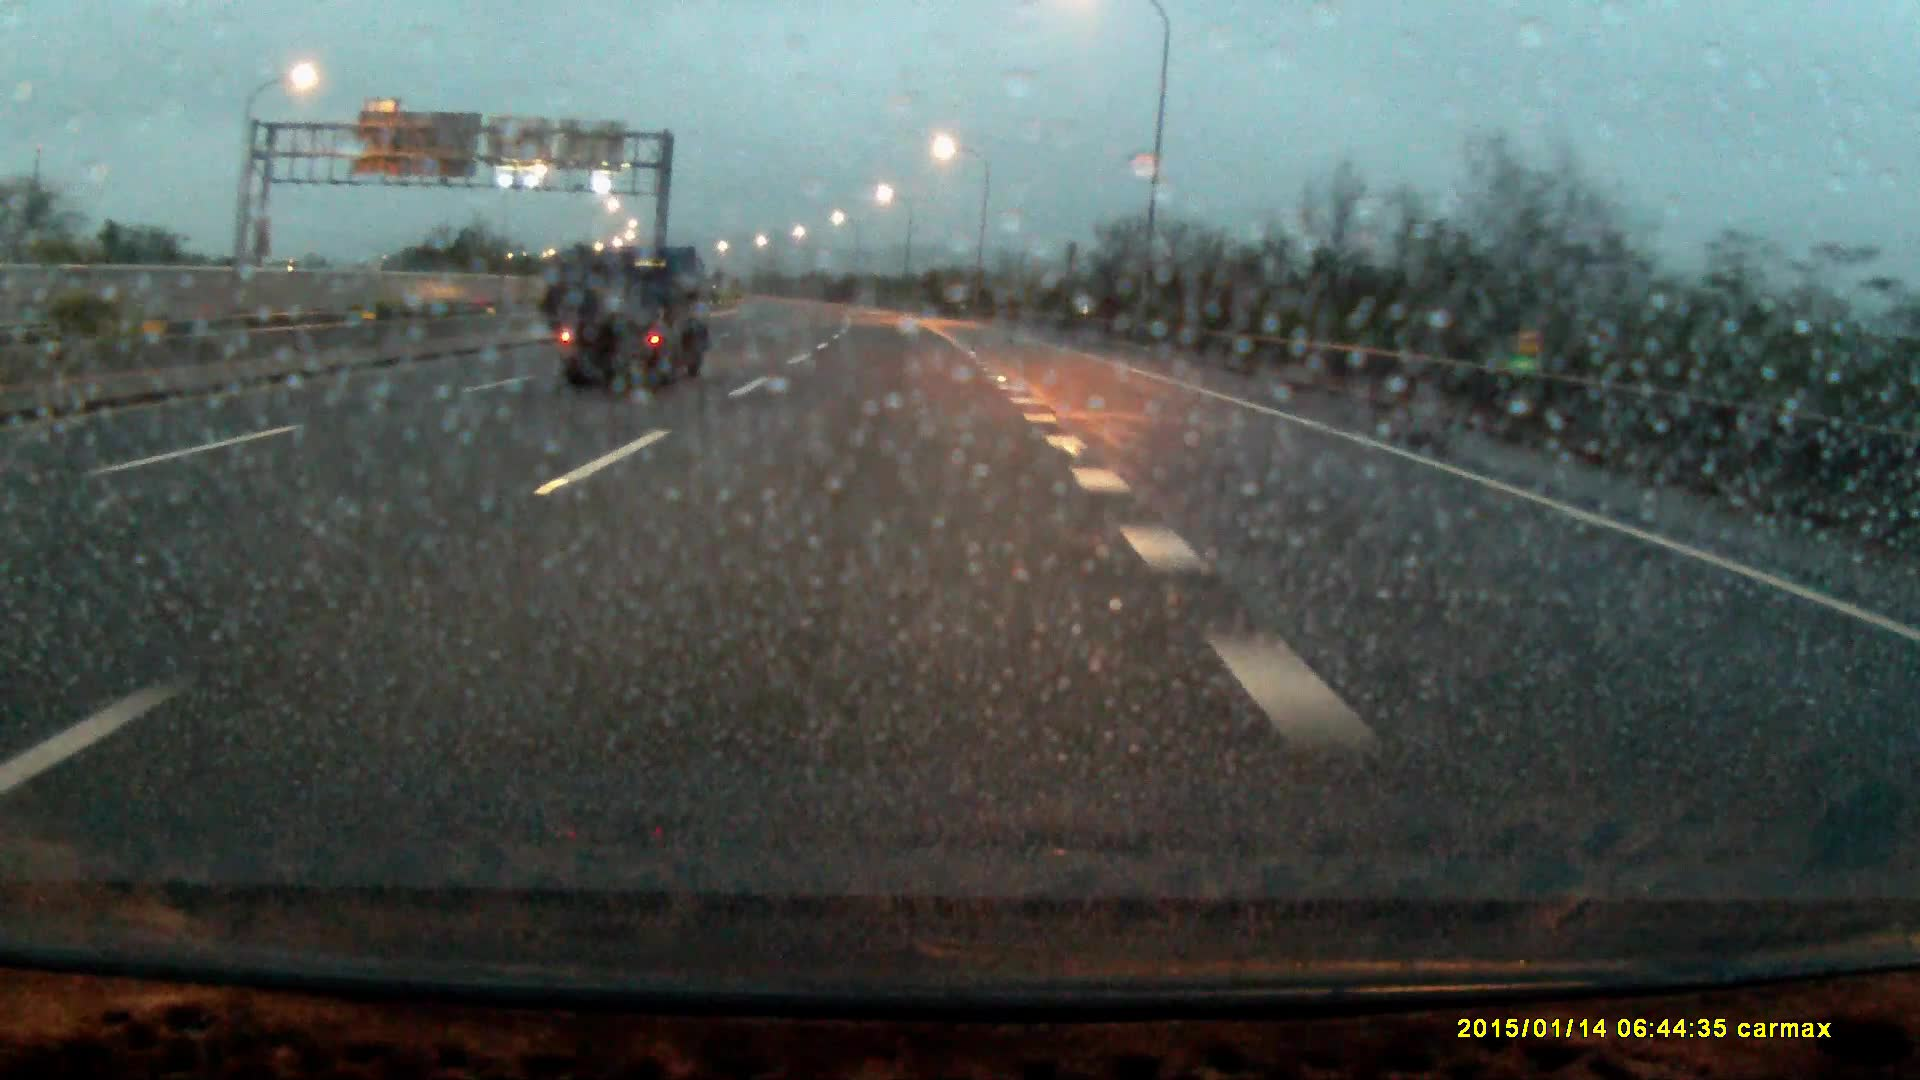vehicle: (553, 252, 716, 394)
